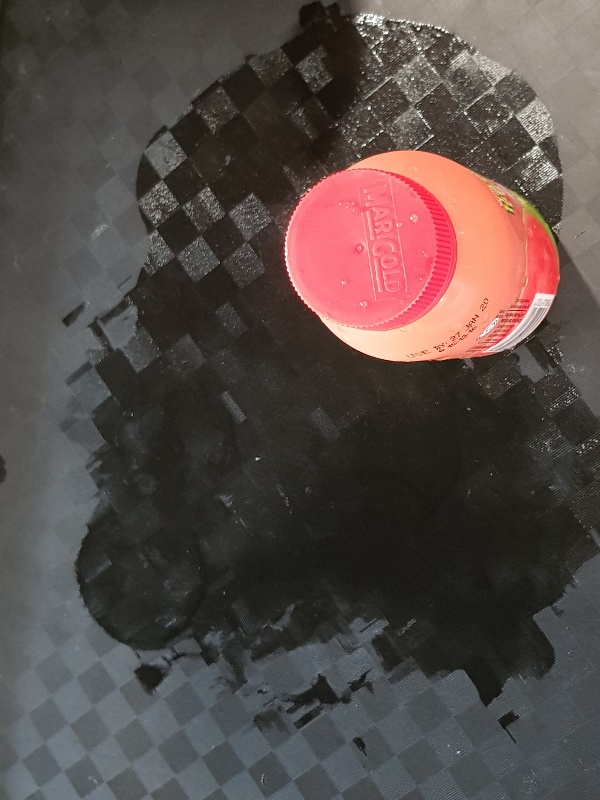Marigold Peel Fresh Pink Guava Juice Drink: (282, 149, 560, 362)
